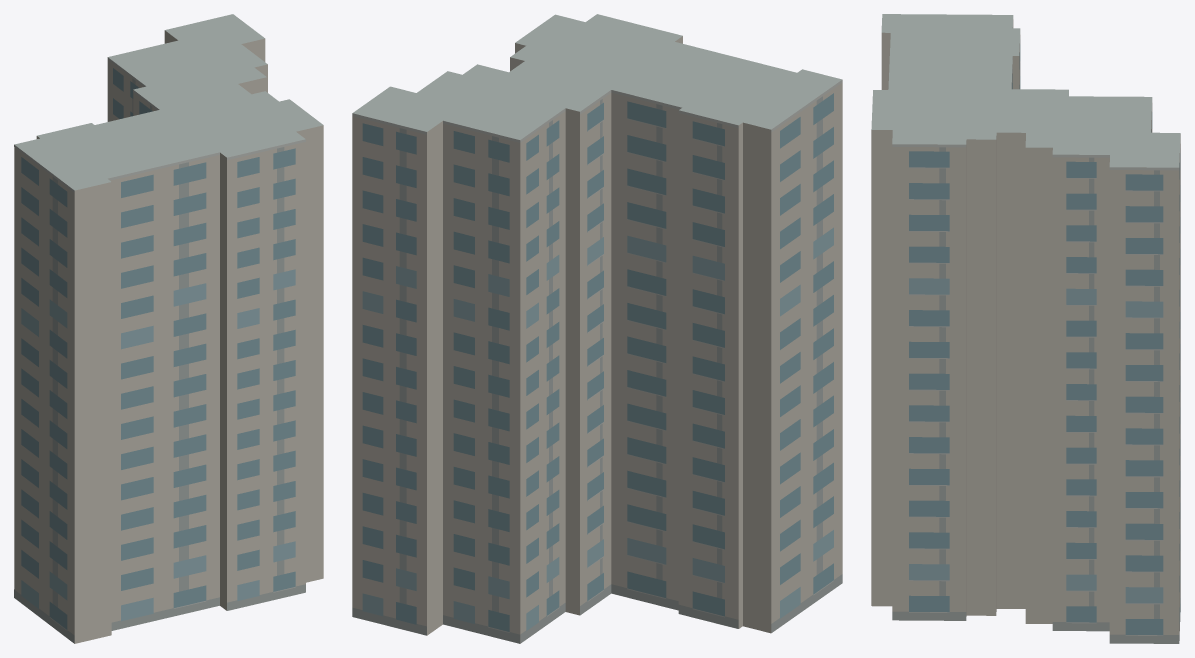
Rendered from residential-290fdd99-d064-4d7c-b427-8d1038681279.glb.
3 views of the same model, side by side, from view 1: azimuth 30°, elevation 25°; view 2: azimuth 150°, elevation 25°; view 3: azimuth 270°, elevation 25° (orthographic). The views are drawn at different scales.
Parts seen in each view (by area): view 1: residential-290fdd99-d064-4d7c-b427-8d1038681279.tmp; view 2: residential-290fdd99-d064-4d7c-b427-8d1038681279.tmp; view 3: residential-290fdd99-d064-4d7c-b427-8d1038681279.tmp.
Part boxes in pixels (x1=…): residential-290fdd99-d064-4d7c-b427-8d1038681279.tmp: x1=14, y1=14, x2=323, y2=643; residential-290fdd99-d064-4d7c-b427-8d1038681279.tmp: x1=352, y1=14, x2=842, y2=643; residential-290fdd99-d064-4d7c-b427-8d1038681279.tmp: x1=871, y1=14, x2=1180, y2=643.
Bounding box in the file's own units: 29.77 × 43 × 25.3.
